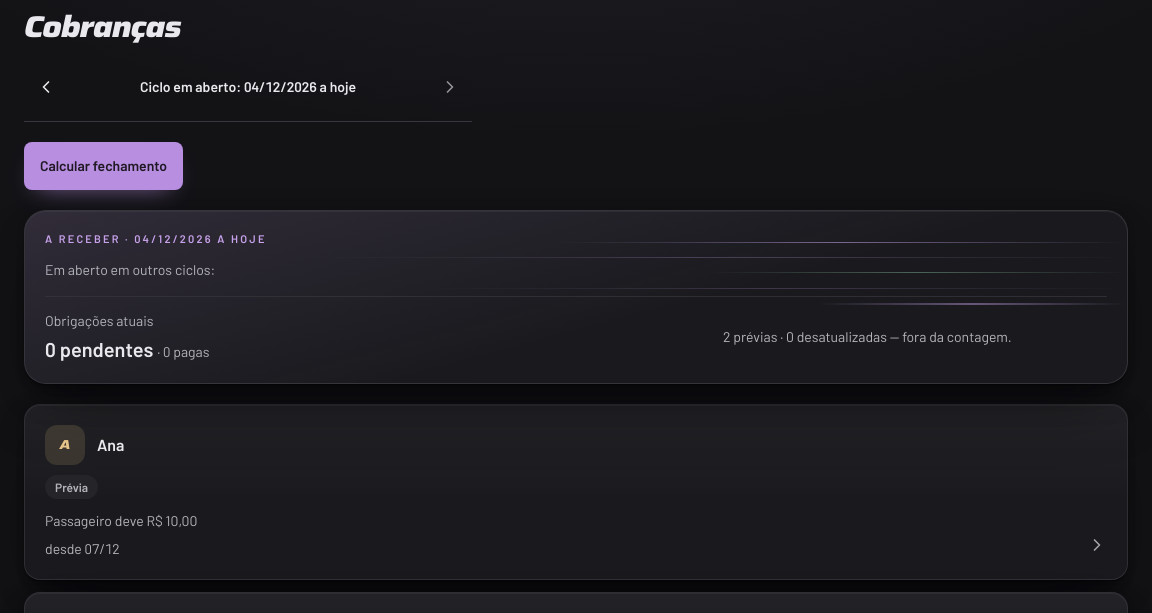
Scenario: a closed cycle that crosses months › is titled with the smallest start and flags who began later
Click the button named "Ciclo anterior" at (46, 87), box top-left (24, 65), bottom-right (68, 109)
(page scrolled)
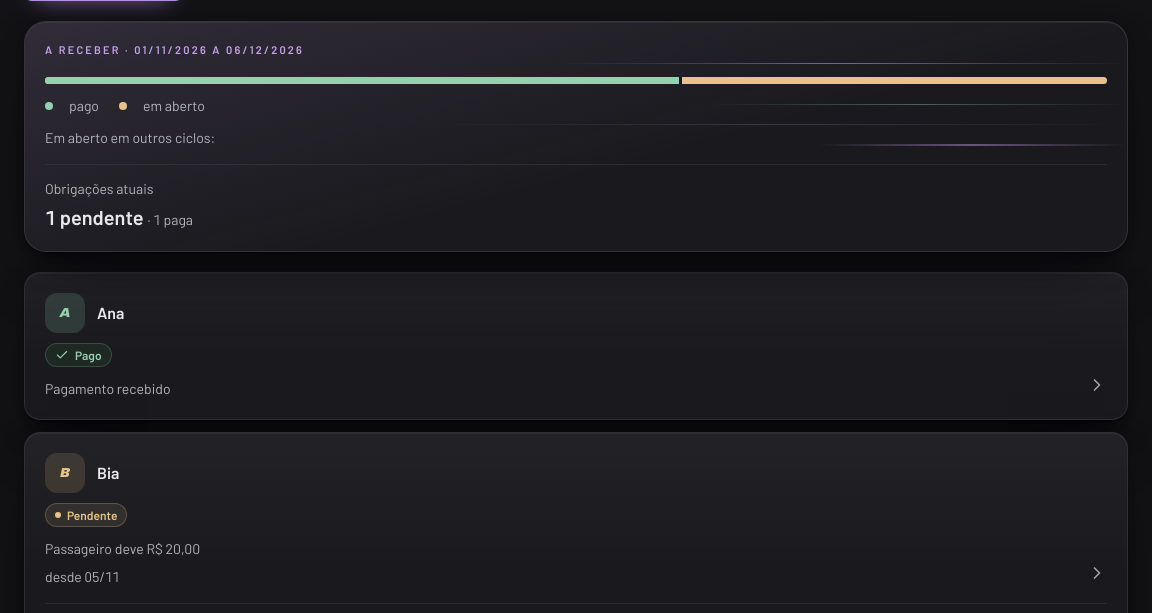
Expected: the text "A receber · 01/11/2026 a 06/12/2026" is shown, top-left (45, 43), bottom-right (304, 56)
Expected: the text "desde 05/11" is shown once, top-left (45, 568), bottom-right (120, 584)
